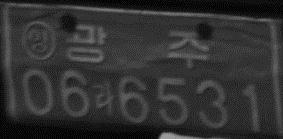0: (21, 68, 53, 117)
1: (237, 83, 268, 134)
3: (195, 79, 228, 130)
5: (156, 76, 190, 127)
6: (117, 74, 149, 124), (60, 70, 90, 119)
광주_D: (63, 24, 209, 69)
라: (91, 80, 115, 114)
영: (20, 19, 57, 62)
